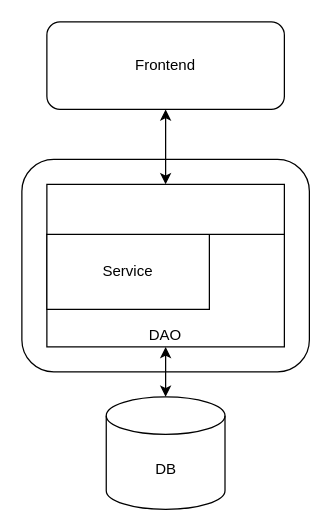
The diagram is 331 pixels wide and 531 high, and some of its shapes have lost their labels. Each missing label, with the box of its shape:
Backend: (21, 158, 309, 372)
Rest API: (46, 183, 284, 234)
